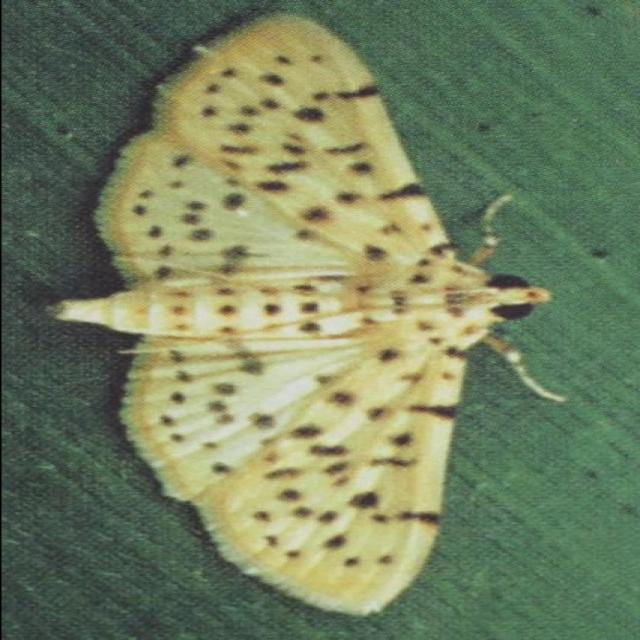peach borer: (50, 11, 547, 626)
